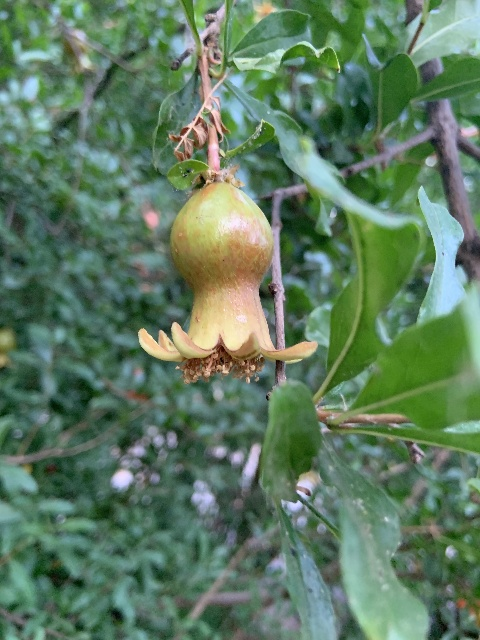early-fruit: (136, 182, 317, 384)
